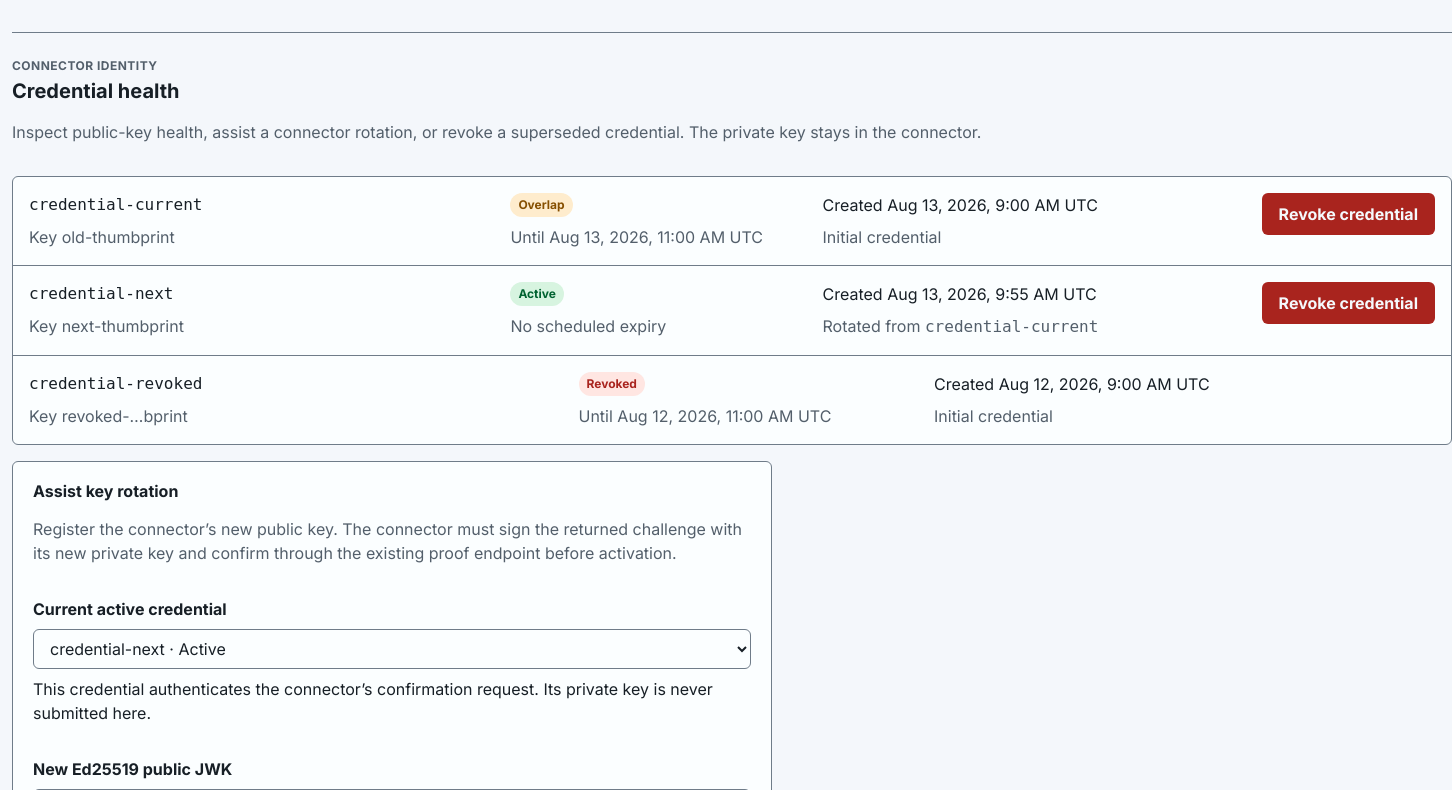
Test: administrator credential lifecycle › submits revocation independently and reports its result next to the credential
The width and height of the screenshot is (1452, 790).
What coordinates should you click on to do the following:
click the button with aria-label "Revoke credential credential-current"
I would click on:
 (1348, 214)
Its box is [1262, 193, 1435, 235].
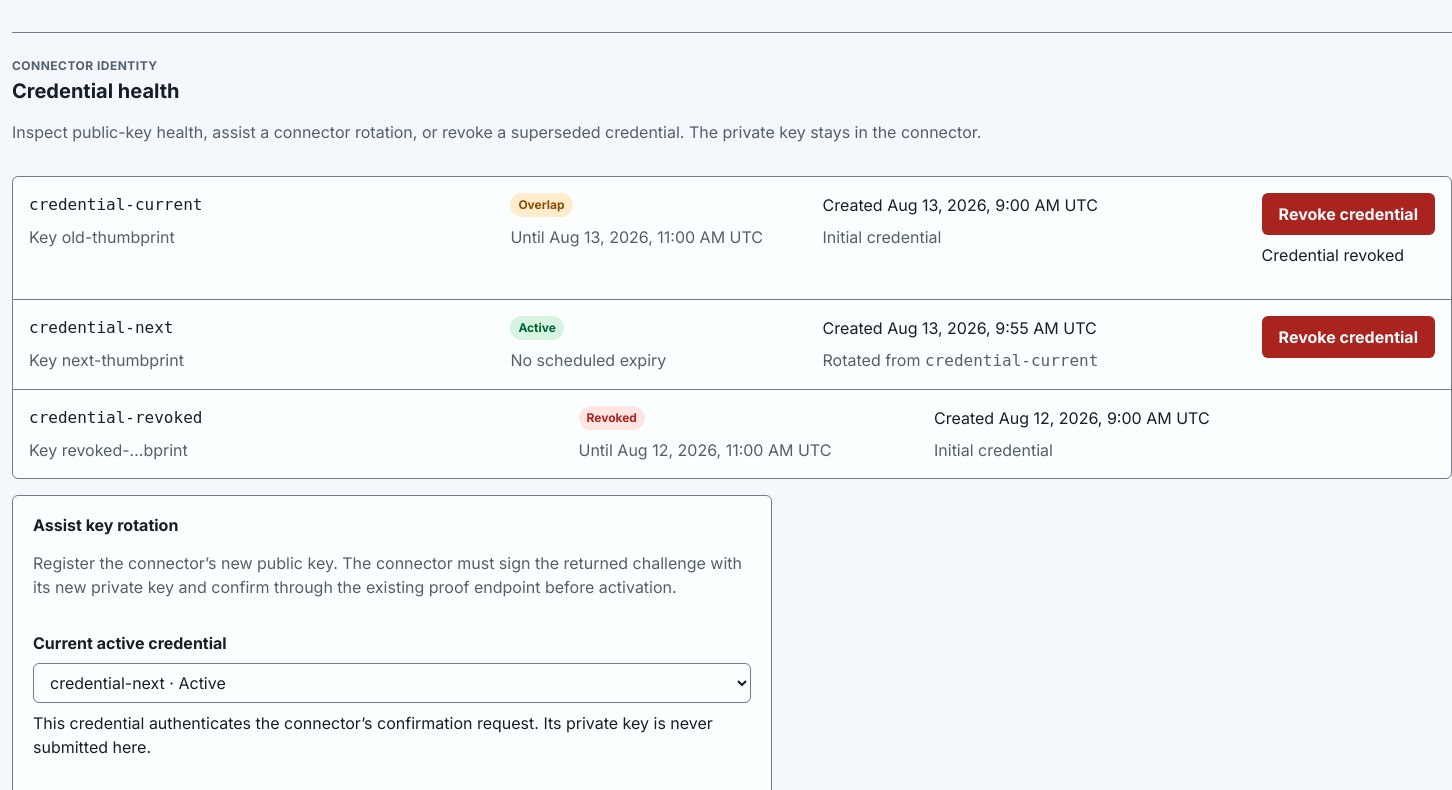
Expected: the text "credential-current" next to "Overlap" is shown, [29, 195, 202, 214]
Now the message reads "Credential revoked", box [1262, 245, 1404, 265]
